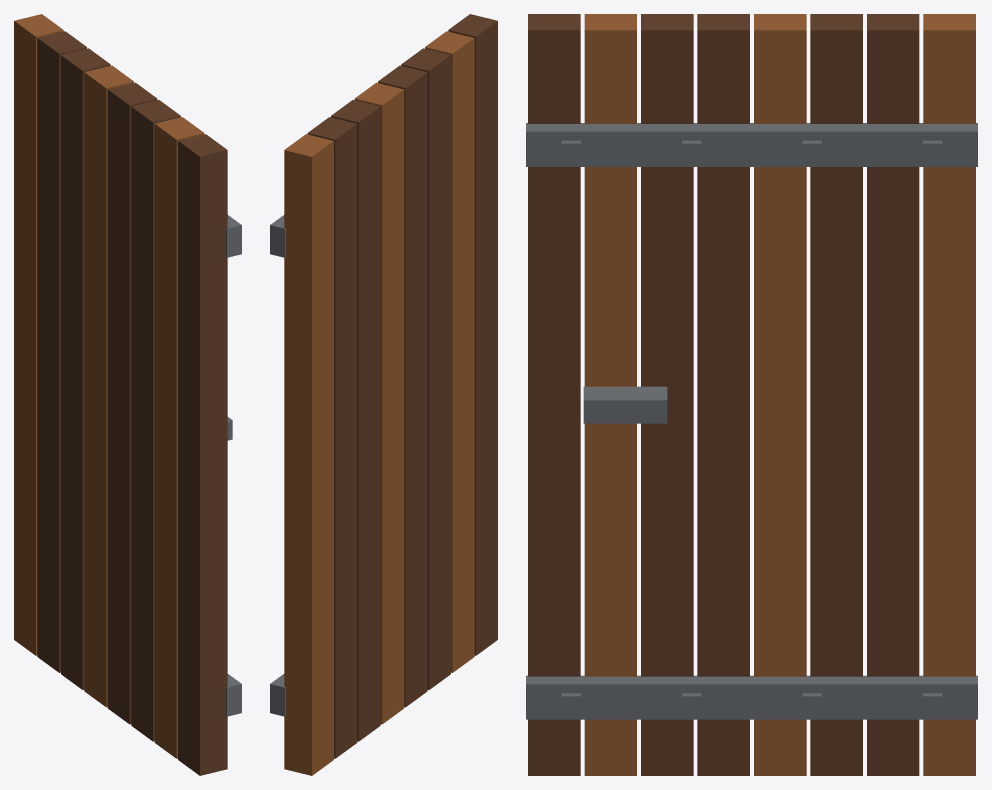
File: DoorBanded__Single.fbx
The picture shows the model from 3 angles, left to right: view 1: azimuth 30°, elevation 25°; view 2: azimuth 150°, elevation 25°; view 3: azimuth 270°, elevation 25°; orthographic projection. The views are drawn at different scales.
Visible parts, largest first — view 1: DoorBanded__Single; view 2: DoorBanded__Single; view 3: DoorBanded__Single.
Boxes of the visible parts, left/top/right/bottom form: DoorBanded__Single: left=14, top=14, right=241, bottom=775; DoorBanded__Single: left=270, top=14, right=497, bottom=775; DoorBanded__Single: left=526, top=14, right=977, bottom=775.
Bounding box in the file's own units: 24 × 255 × 140.
Materials: 1 (1 with a texture image).
